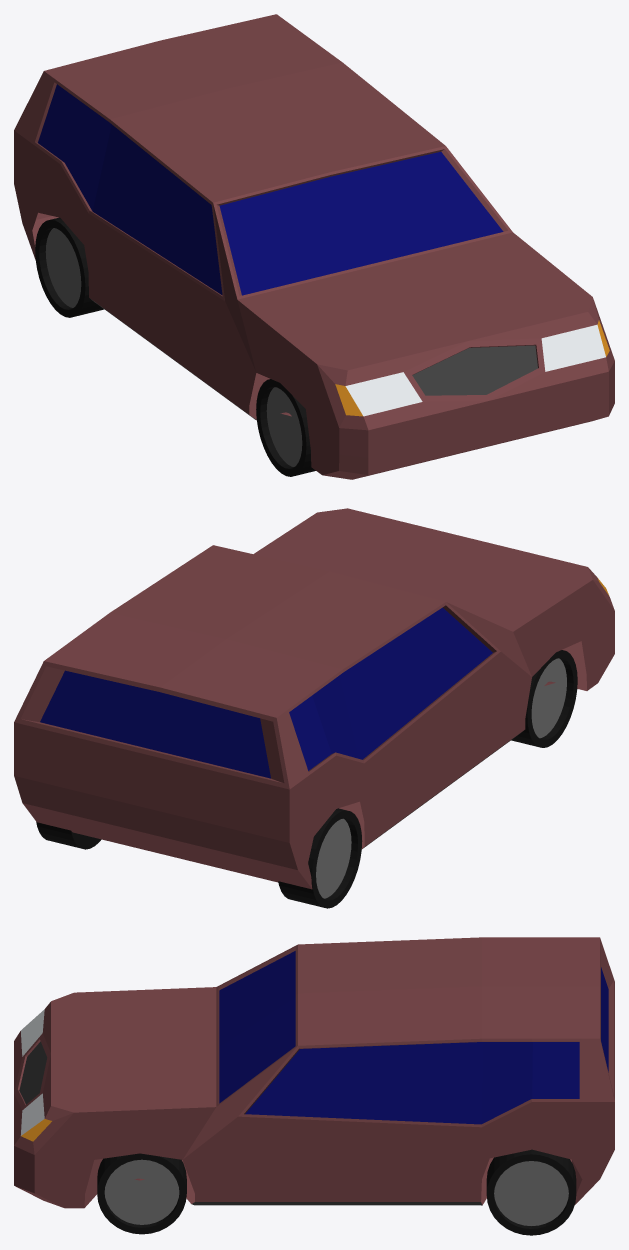
File: grandmascar.fbx
The picture shows the model from 3 angles, top to bottom: view 1: azimuth 30°, elevation 25°; view 2: azimuth 150°, elevation 25°; view 3: azimuth 270°, elevation 25°; orthographic projection. The views are drawn at different scales.
Visible parts, largest first — view 1: grandmascar; view 2: grandmascar; view 3: grandmascar.
Part boxes in pixels (x1,y1,x2,y2): grandmascar: [14, 14, 614, 479]; grandmascar: [14, 508, 614, 908]; grandmascar: [14, 937, 614, 1235].
Size of the model in its own units: 345 by 252 by 727.
